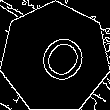O_SW: (23, 24, 87, 91)
